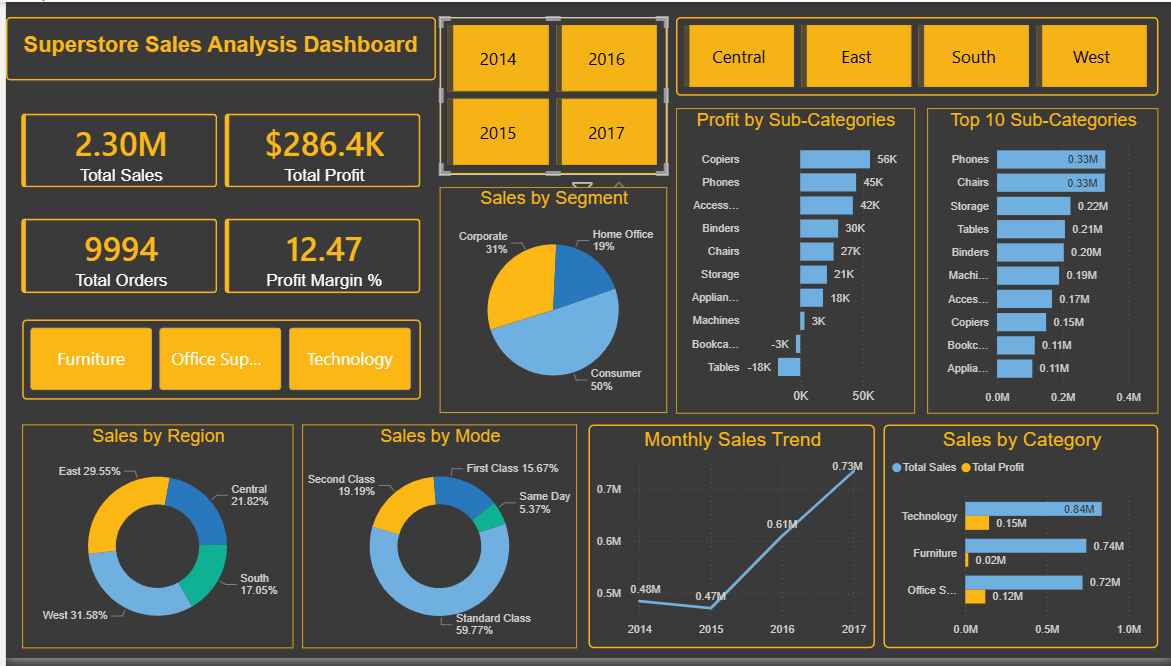

The page's visual inventory and layout, read from the dashboard file:
{"tool":"powerbi","page":{"name":"Sales Overview","canvas":[1280,720],"ordinal":0},"visuals":[{"type":"cardVisual","fields":{"Data":["superstore_mysql.Total Orders","superstore_mysql.Profit Margin %"]},"box":[0,220.9,472,116.6],"z":0},{"type":"cardVisual","fields":{"Data":["superstore_mysql.Total Sales","superstore_mysql.Total Profit"]},"box":[0,105.7,472,115.3],"z":2000},{"type":"donutChart","title":"Sales by Region","fields":{"Category":["superstore_mysql.Region"],"Y":["superstore_mysql.Total Sales"]},"box":[17.8,463.8,297.8,245.6],"z":3000},{"type":"clusteredBarChart","title":"Sales by Category","fields":{"Category":["superstore_mysql.Category"],"Y":["superstore_mysql.Total Sales","superstore_mysql.Total Profit"]},"box":[963.3,463.8,301.9,245.6],"z":4000},{"type":"lineChart","title":"Monthly Sales Trend","fields":{"Y":["superstore_mysql.Total Sales"],"Category":["superstore_mysql.Order_Date.Variation.Date Hierarchy.Year"]},"box":[639.5,463.8,314.2,245.6],"z":5000},{"type":"advancedSlicerVisual","fields":{"Values":["superstore_mysql.Region"]},"box":[735.5,16.5,529.7,86.4],"z":6000},{"type":"advancedSlicerVisual","fields":{"Values":["superstore_mysql.Category"]},"box":[17.8,348.5,437.7,87.8],"z":7000},{"type":"advancedSlicerVisual","fields":{"Values":["superstore_mysql.Order_Date.Variation.Date Hierarchy.Year"]},"box":[476.2,16.5,249.7,172.9],"z":8000},{"type":"textbox","box":[0,16.5,472,70],"z":9000},{"type":"clusteredBarChart","title":"Top 10 Sub-Categories","fields":{"Category":["superstore_mysql.Sub_Category"],"Y":["superstore_mysql.Total Sales"]},"box":[1011.3,116.6,253.9,334.8],"z":11000},{"type":"clusteredBarChart","title":"Profit by Sub-Categories","fields":{"Category":["superstore_mysql.Sub_Category"],"Y":["superstore_mysql.Total Profit"]},"box":[735.5,116.6,262.1,334.8],"z":12000},{"type":"pieChart","title":"Sales by Segment","fields":{"Y":["superstore_mysql.Total Sales"],"Category":["superstore_mysql.Segment"]},"box":[476.2,203.1,249.7,248.4],"z":13000},{"type":"donutChart","title":"Sales by Mode","fields":{"Category":["superstore_mysql.Ship_Mode"],"Y":["superstore_mysql.Total Orders"]},"box":[325.2,463.8,301.9,245.6],"z":14000}]}

Visuals, with their boxes in screenshot pixels (x1, y1, x2, y2), scaled from the page's 1280x720 canvas onto the 1171x666 screenshot:
cardVisual - superstore_mysql.Total Orders x superstore_mysql.Profit Margin %: x1=0, y1=204, x2=432, y2=312
cardVisual - superstore_mysql.Total Sales x superstore_mysql.Total Profit: x1=0, y1=98, x2=432, y2=204
"Sales by Region" donutChart: x1=16, y1=429, x2=289, y2=656
"Sales by Category" clusteredBarChart: x1=881, y1=429, x2=1157, y2=656
"Monthly Sales Trend" lineChart: x1=585, y1=429, x2=872, y2=656
advancedSlicerVisual - superstore_mysql.Region: x1=673, y1=15, x2=1157, y2=95
advancedSlicerVisual - superstore_mysql.Category: x1=16, y1=322, x2=417, y2=404
advancedSlicerVisual - superstore_mysql.Order_Date.Variation.Date Hierarchy.Year: x1=436, y1=15, x2=664, y2=175
textbox: x1=0, y1=15, x2=432, y2=80
"Top 10 Sub-Categories" clusteredBarChart: x1=925, y1=108, x2=1157, y2=418
"Profit by Sub-Categories" clusteredBarChart: x1=673, y1=108, x2=913, y2=418
"Sales by Segment" pieChart: x1=436, y1=188, x2=664, y2=418
"Sales by Mode" donutChart: x1=298, y1=429, x2=574, y2=656
